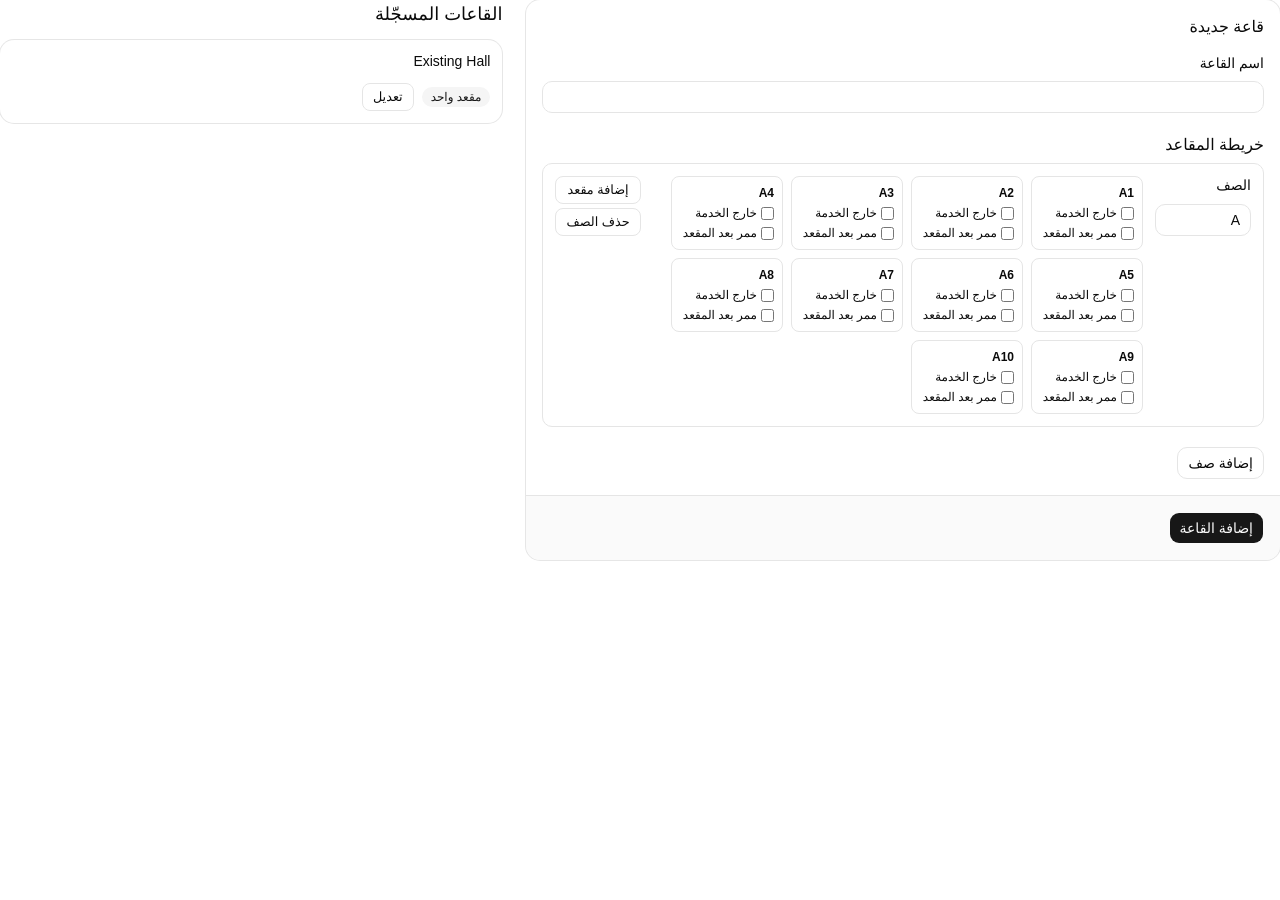
Test case: AuditoriumAdmin seat-map editor › keeps the edited map and shows an error when saving fails
Type "Main Hall" into the field labelled "اسم القاعة".
click(903, 97); type("Main Hall")  # box 542,81 -> 1264,113
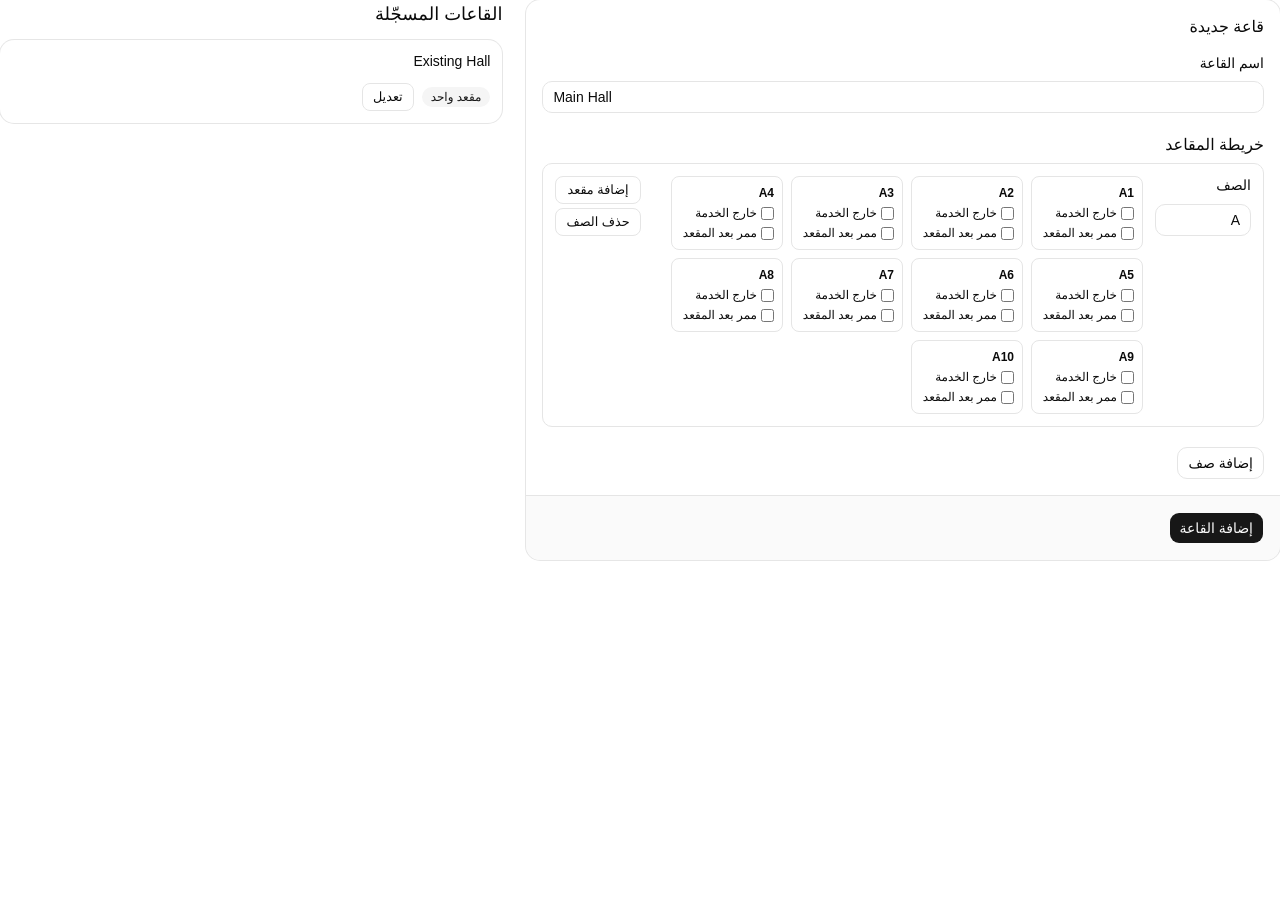
Click the button "إضافة مقعد".
click(598, 190)  # box 555,176 -> 641,204
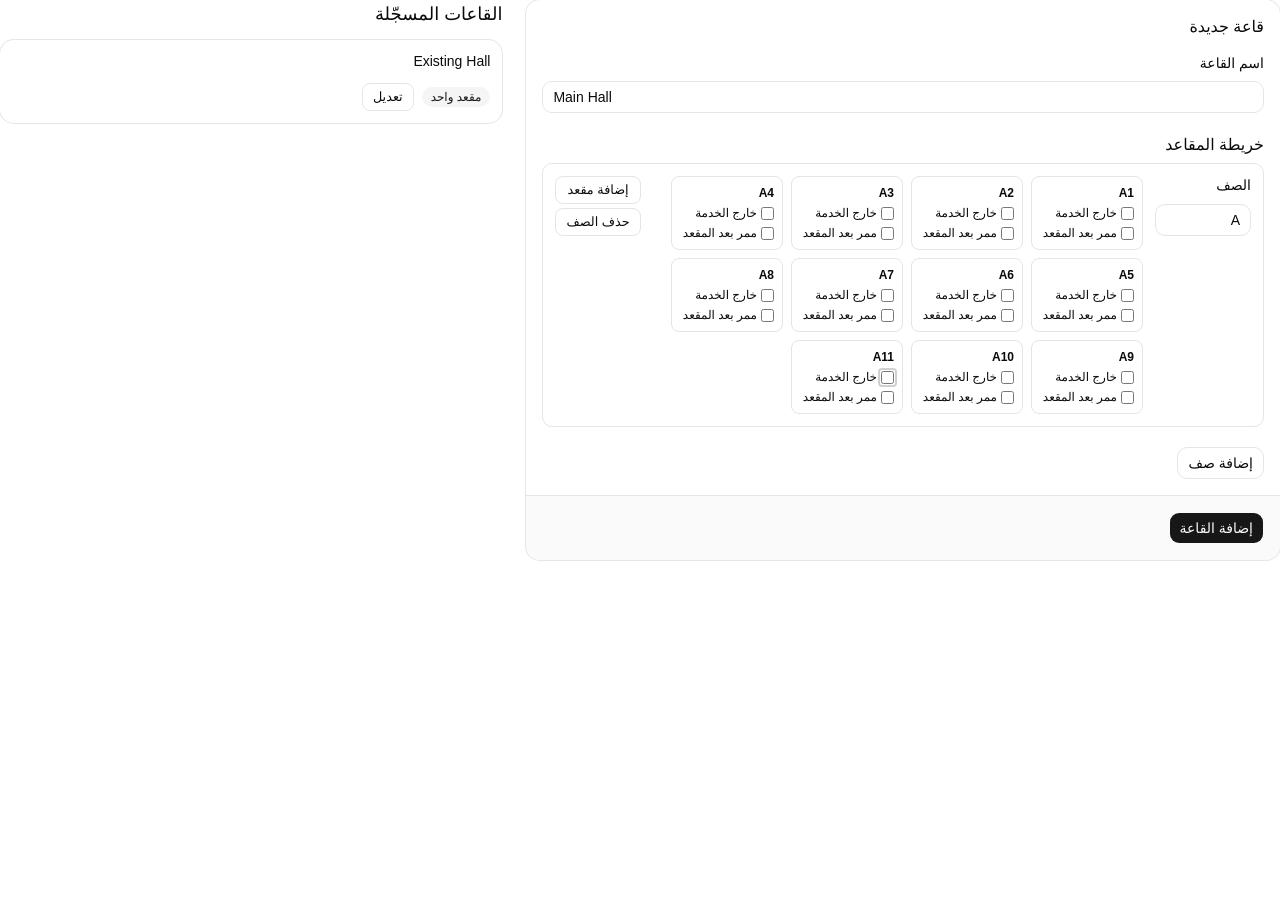
Click the button "إضافة القاعة".
click(1216, 528)  # box 1168,512 -> 1264,544
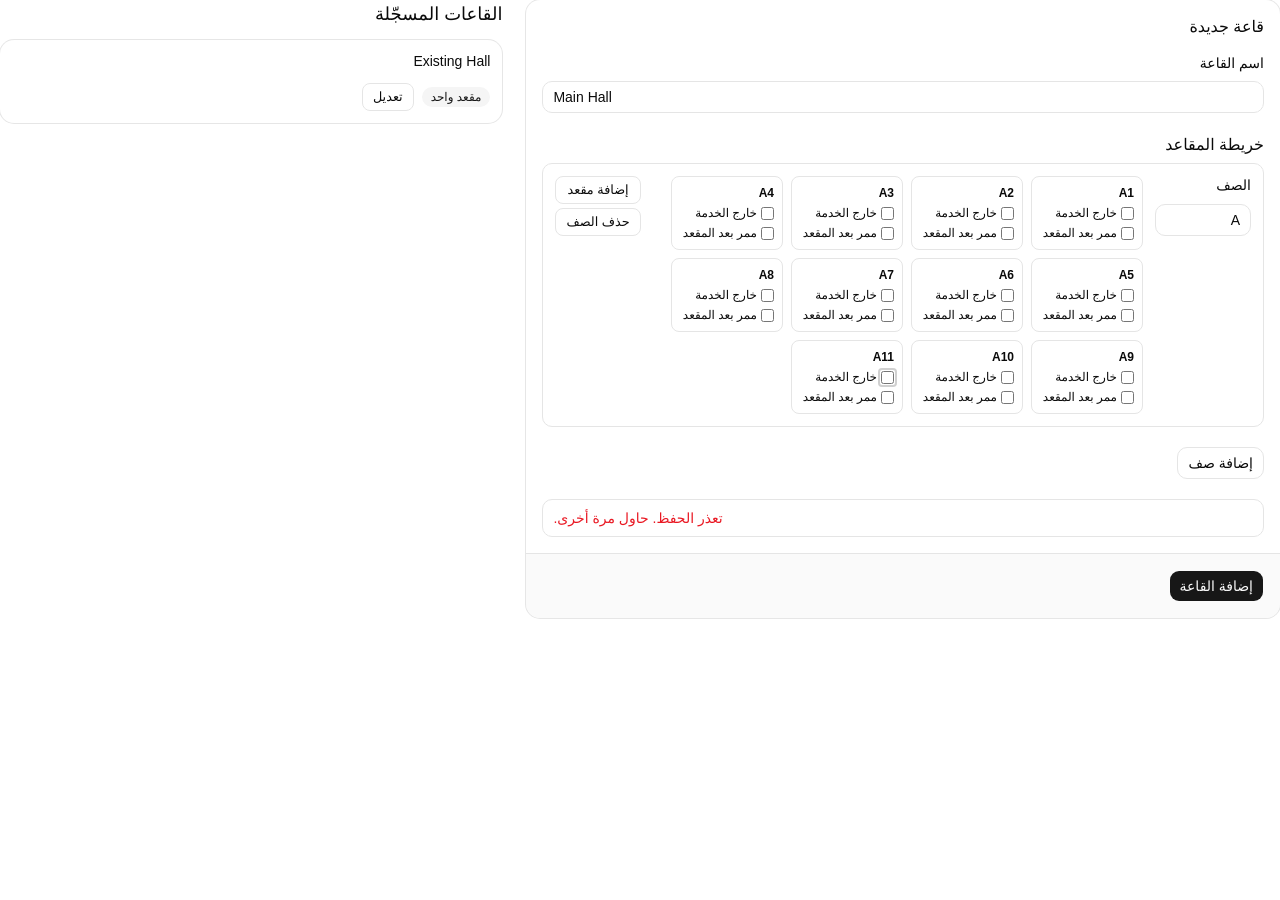
Expected: the text "A11" is shown, 873,350 -> 894,364
Expected: the text "تعذر الحفظ. حاول مرة أخرى." is shown, 553,510 -> 723,526
